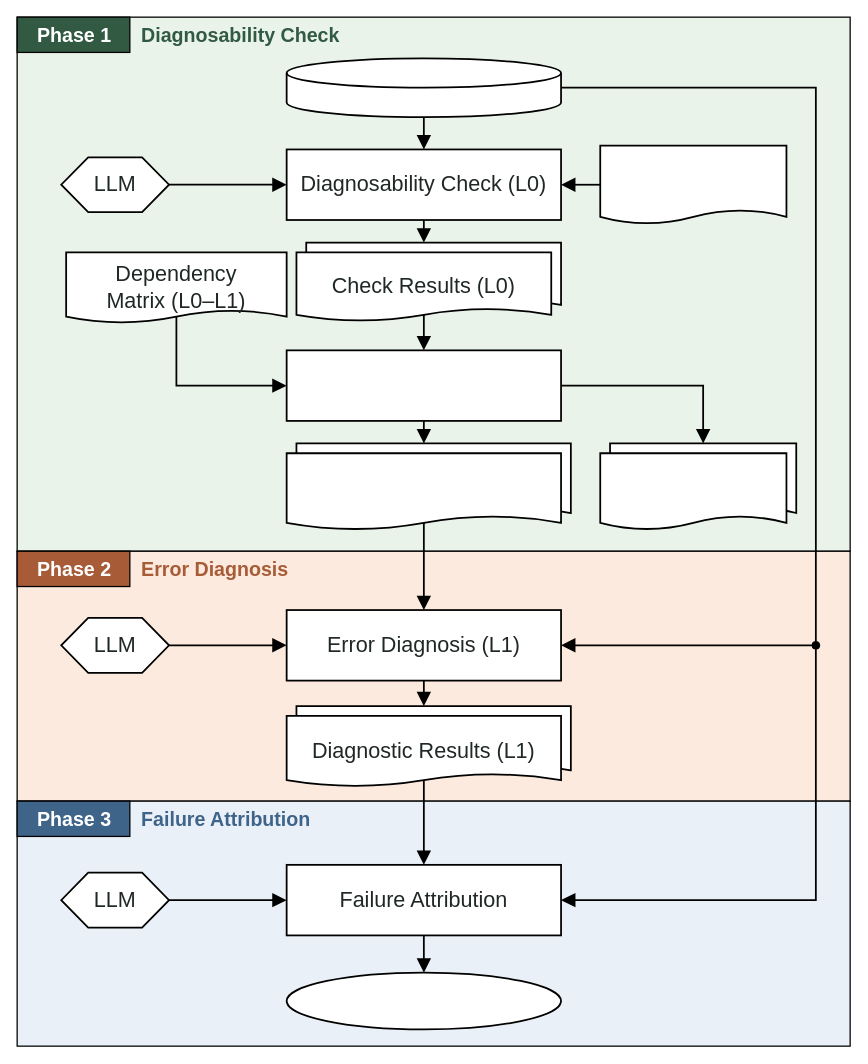
This 868x1064 diagram has some shape labels left out. The shapes that lost their labels are listed below. From the top down, each one's box as (x1, y1, x2, y2) in pixels, then its label:
(285, 57, 561, 118): Agent Execution Logs
(599, 144, 787, 224): Diagnosability Criterion
(285, 349, 561, 421): Diagnosability Evaluation
(285, 452, 561, 530): Diagnosable Items
(599, 452, 787, 530): Diagnostic Coverage
(285, 971, 561, 1030): Decisive Error Step
